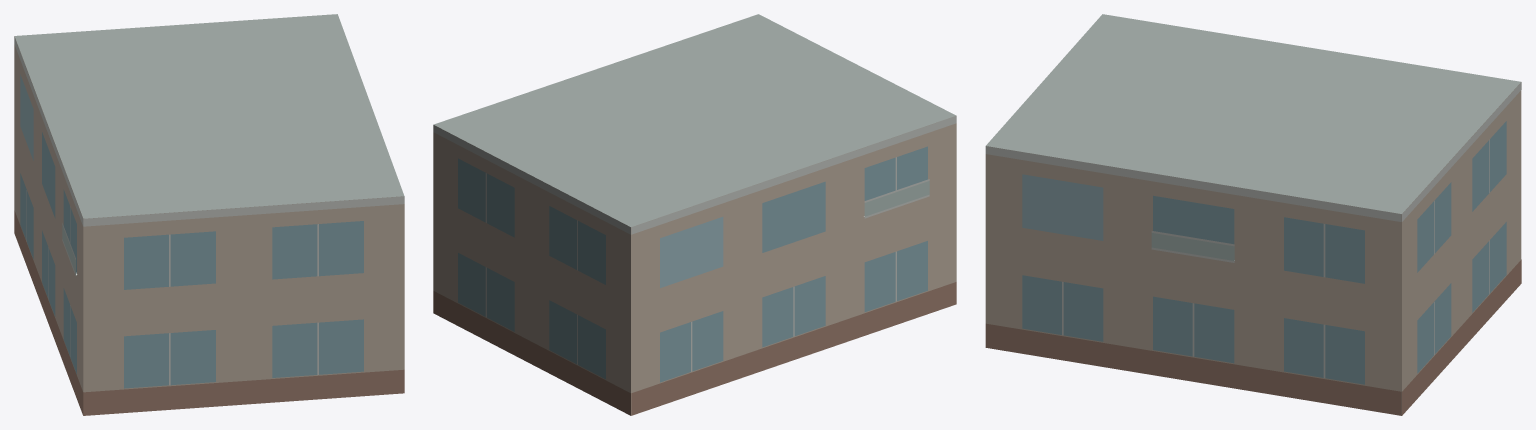
Rendered from survey-upis-32718734.glb.
3 renders of one model, left to right at view 1: azimuth 30°, elevation 25°; view 2: azimuth 150°, elevation 25°; view 3: azimuth 270°, elevation 25°, orthographic. The views are drawn at different scales.
Visible parts, largest first — view 1: survey-upis-32718734.tmp; view 2: survey-upis-32718734.tmp; view 3: survey-upis-32718734.tmp.
Boxes of the visible parts, bbox=[...] form: survey-upis-32718734.tmp: bbox=[14, 14, 404, 415]; survey-upis-32718734.tmp: bbox=[433, 14, 956, 415]; survey-upis-32718734.tmp: bbox=[985, 14, 1521, 415].
Size of the model in its own units: 12.99 by 6.1 by 14.69.
